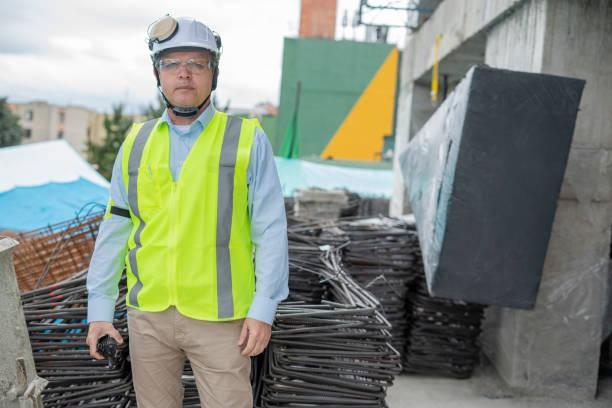goggle: (150, 52, 216, 74)
helmet: (136, 12, 229, 67)
vest: (122, 105, 261, 323)
